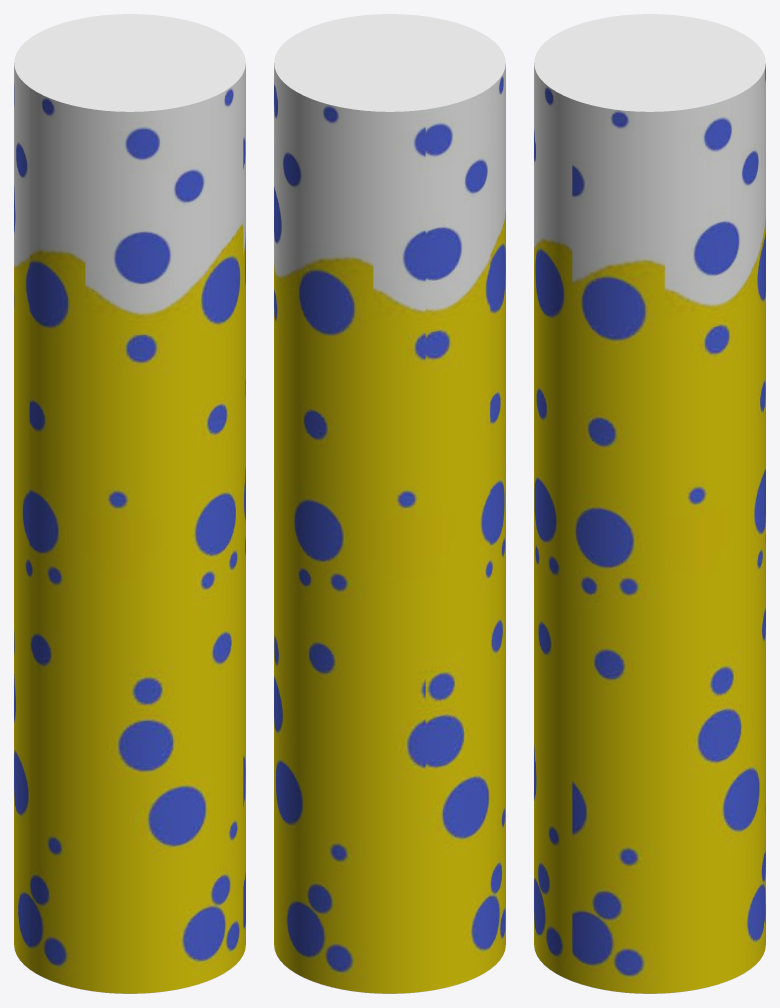
3 views of the same model, side by side, from view 1: azimuth 30°, elevation 25°; view 2: azimuth 150°, elevation 25°; view 3: azimuth 270°, elevation 25° (orthographic).
Visible parts, largest first — view 1: group_0, group_0.001; view 2: group_0, group_0.001; view 3: group_0, group_0.001.
Boxes of the visible parts, x1,y1,x2,y2 form: group_0: (14, 63, 245, 993); group_0.001: (14, 14, 245, 111); group_0: (274, 63, 505, 993); group_0.001: (274, 14, 505, 111); group_0: (534, 63, 765, 993); group_0.001: (534, 14, 765, 111).
Size of the model in its own units: 0.7143 by 3 by 0.7143.
2 materials, 1 textured.
